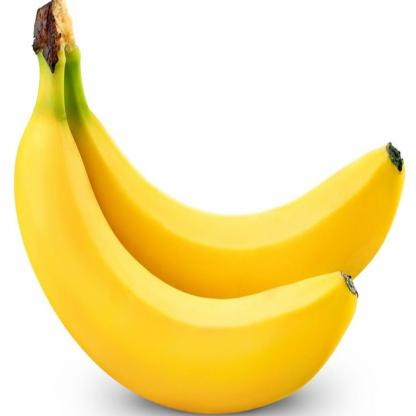banana: (13, 102, 360, 412), (46, 69, 399, 292)
